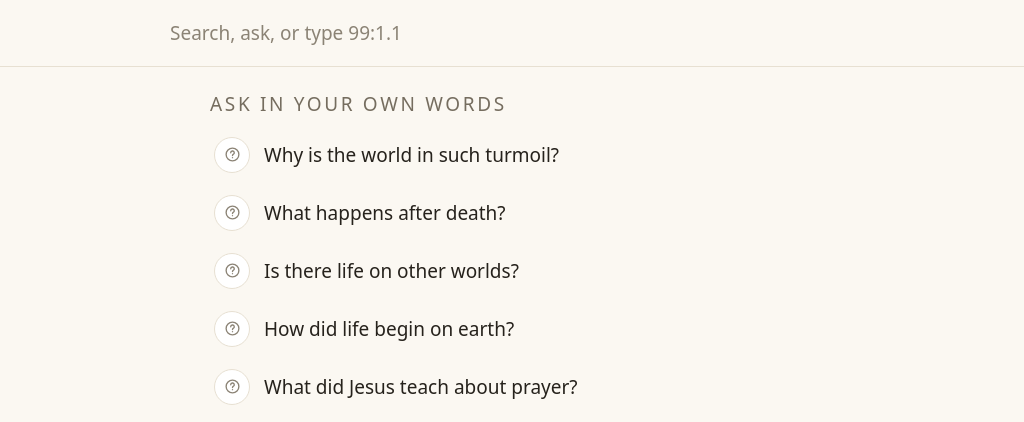
while the reader types › shows only the search row for text that names no paper
Type "what happens after death" into the search field named "Search the Papers" at (495, 33), box [166, 10, 824, 56]
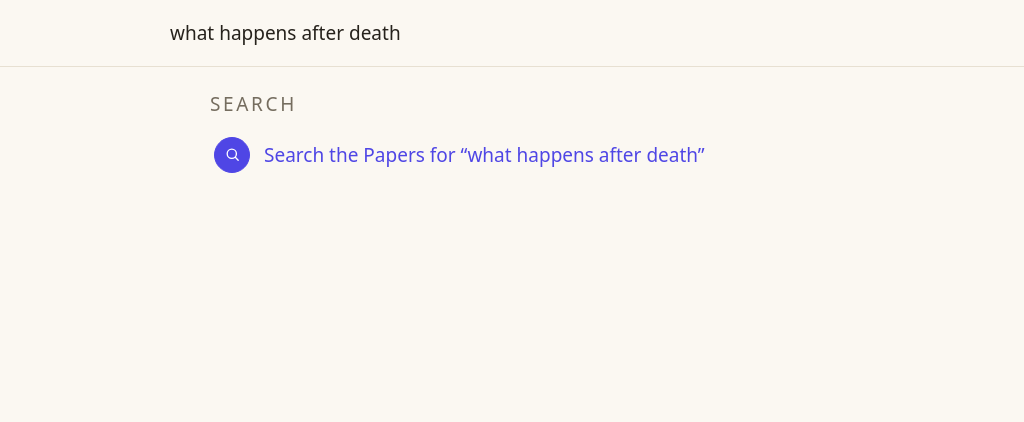
Result: the button "Search the Papers for “what happens after death”" is shown at [210, 126, 814, 184]
